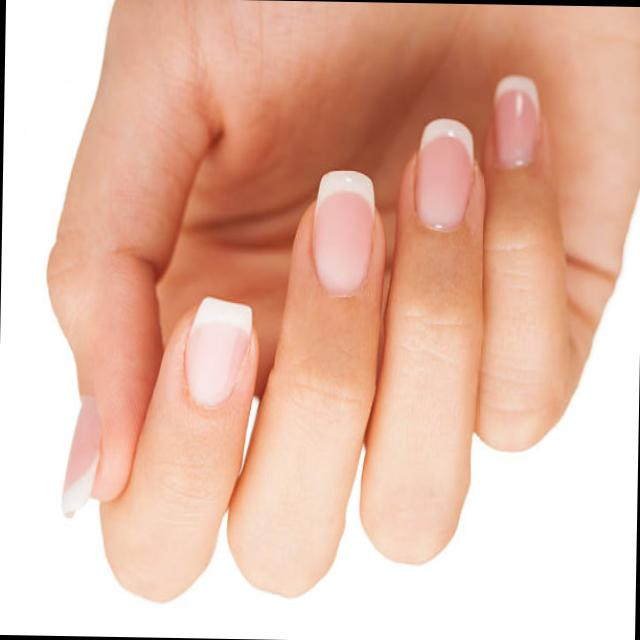Nail: (313, 168, 375, 294), (184, 296, 252, 405), (416, 117, 474, 230), (60, 395, 100, 517), (494, 72, 541, 169)
